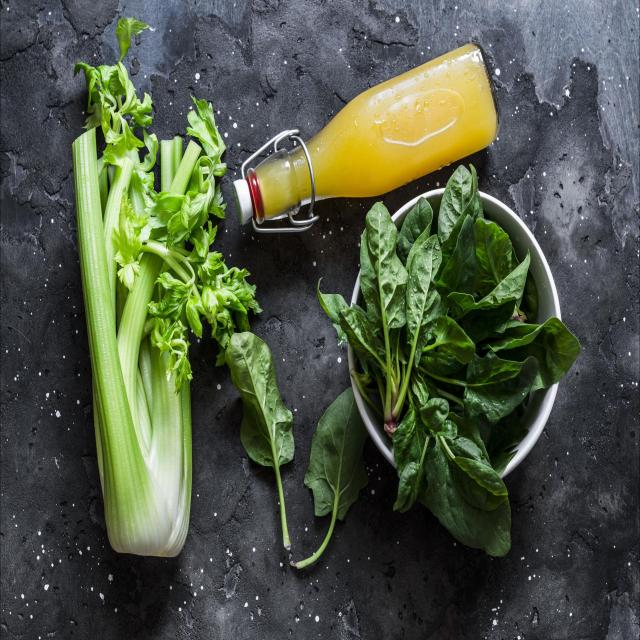Celery stalk: (63, 10, 265, 564)
